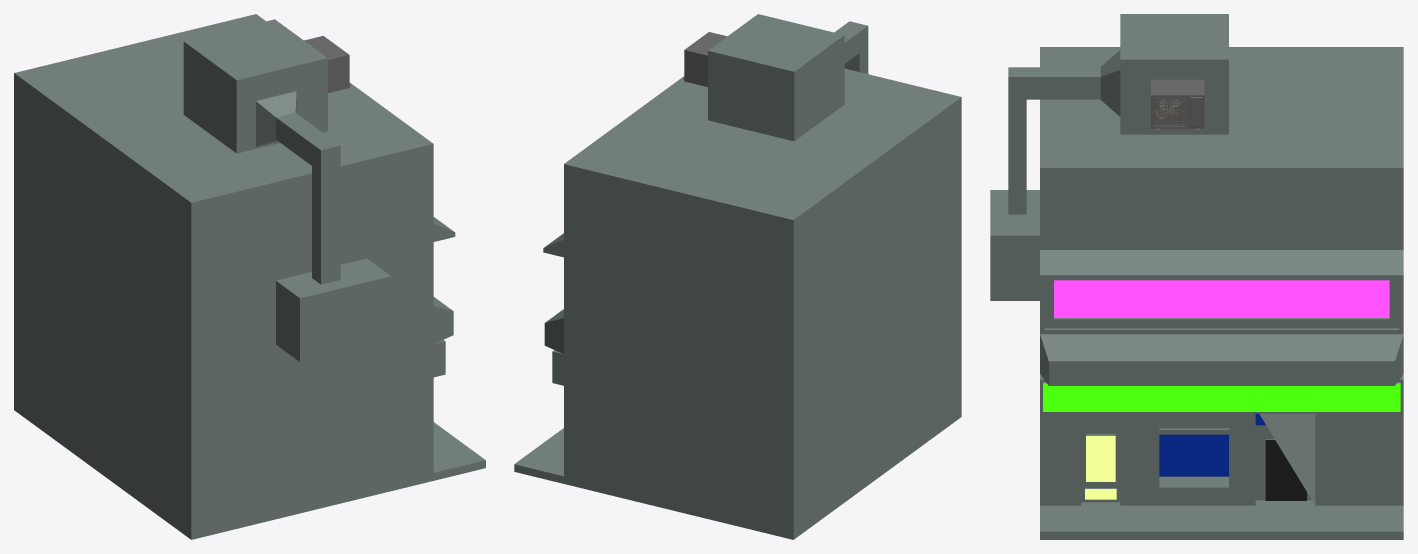
Rendered from blud3.fbx.
The picture shows the model from 3 angles, left to right: view 1: azimuth 30°, elevation 25°; view 2: azimuth 150°, elevation 25°; view 3: azimuth 270°, elevation 25°; orthographic projection. The views are drawn at different scales.
Visible parts, largest first — view 1: Cube.046; view 2: Cube.046; view 3: Cube.046.
Part boxes in pixels (bbox=[...]): Cube.046: bbox=[14, 14, 485, 539]; Cube.046: bbox=[514, 14, 961, 539]; Cube.046: bbox=[990, 14, 1403, 539].
Bounding box in the file's own units: 358 × 477 × 425.
